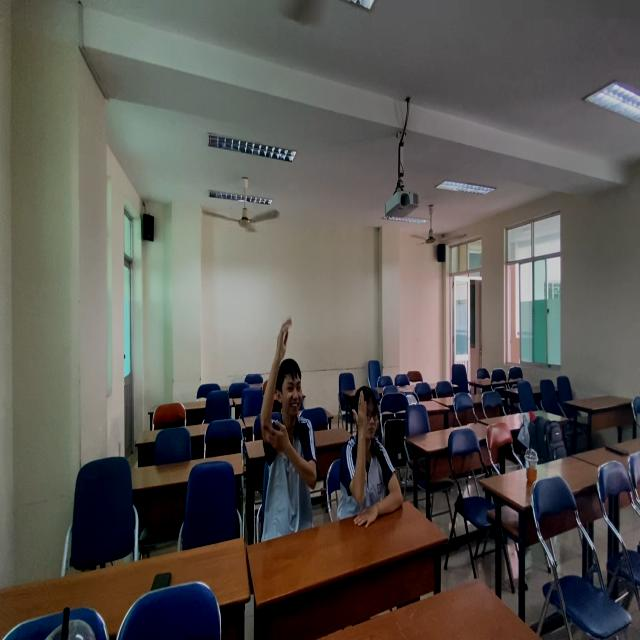raise_hand: (259, 311, 326, 530), (336, 377, 408, 521)
